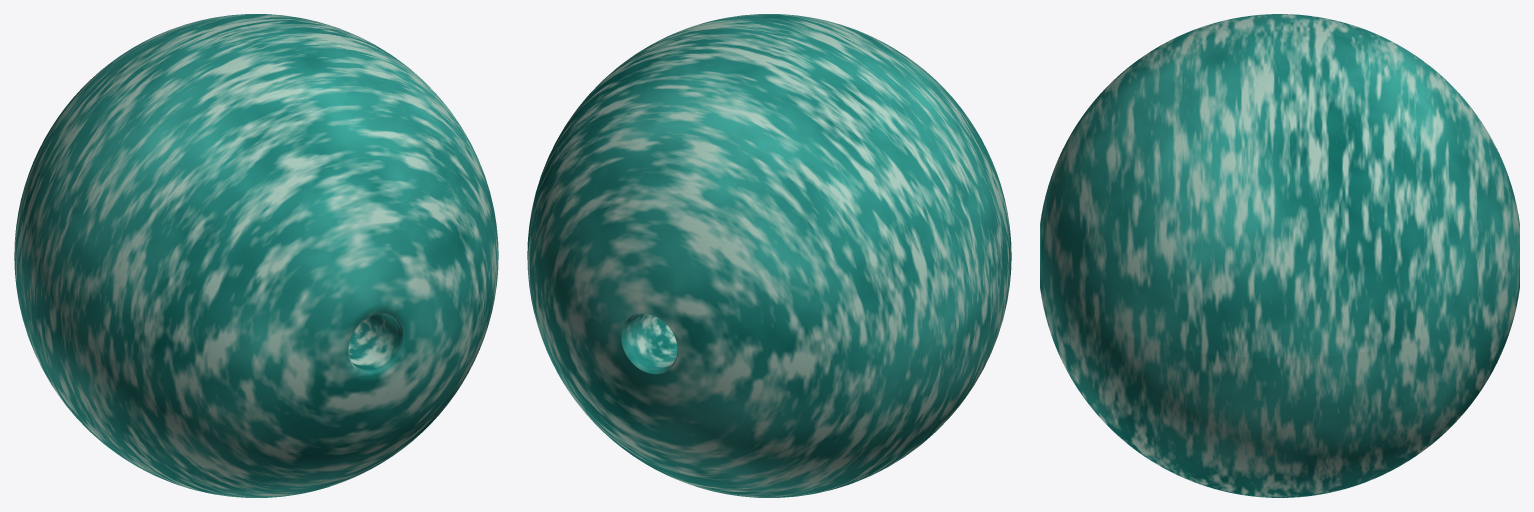
File: amazonite.glb
The picture shows the model from 3 angles, left to right: view 1: azimuth 30°, elevation 25°; view 2: azimuth 150°, elevation 25°; view 3: azimuth 270°, elevation 25°; orthographic projection.
Parts seen in each view (by area): view 1: amazonite.001; view 2: amazonite.001; view 3: amazonite.001.
Boxes of the visible parts, x1,y1,x2,y2 form: amazonite.001: [14, 14, 498, 497]; amazonite.001: [527, 14, 1011, 497]; amazonite.001: [1040, 14, 1519, 497].
Size of the model in its own units: 0.008 by 0.008 by 0.00793.
1 material, 1 textured.
